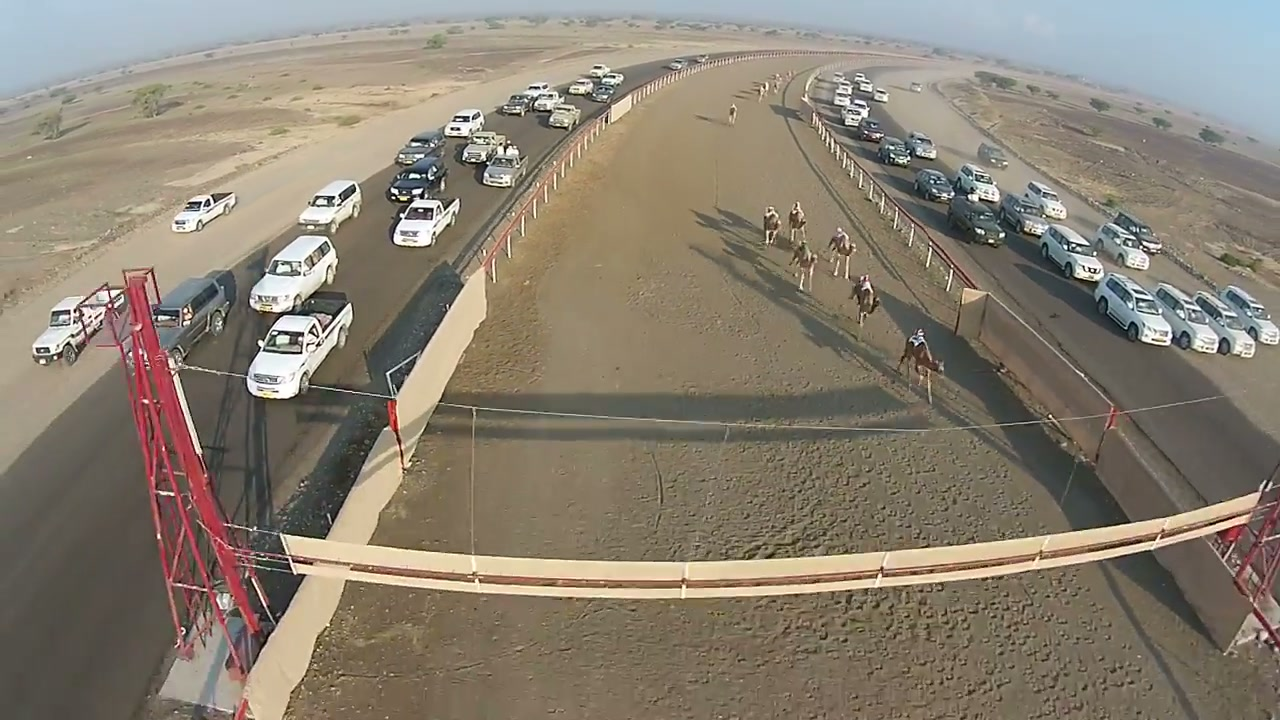animal_foot_print: (791, 284, 1204, 711)
